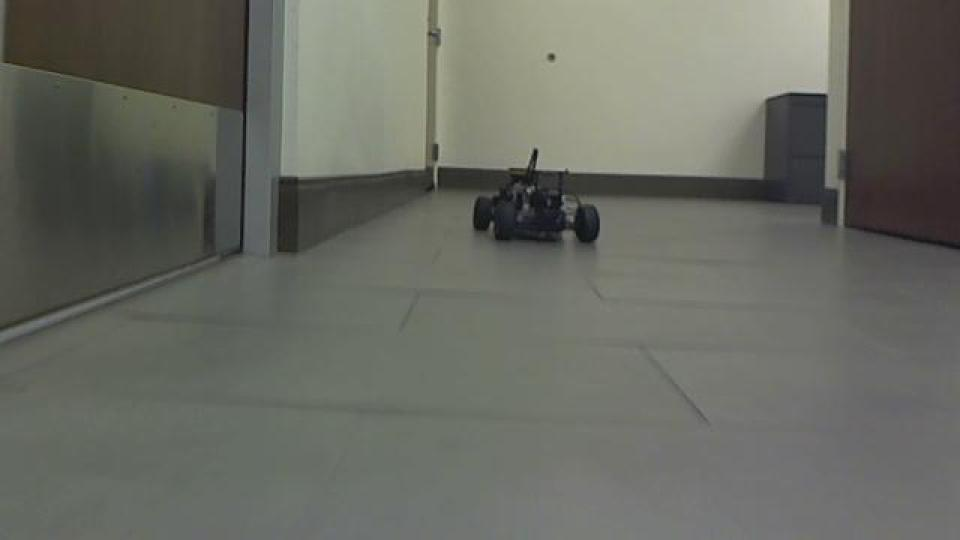car: (468, 146, 603, 248)
